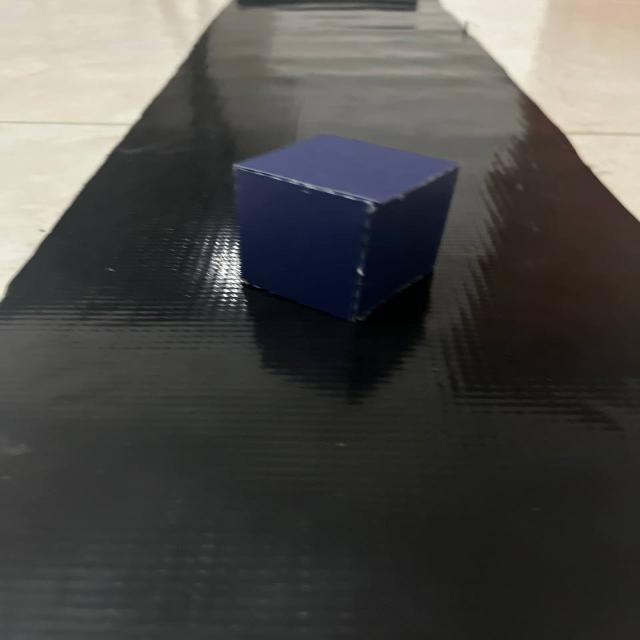Azul: (208, 116, 482, 365)
